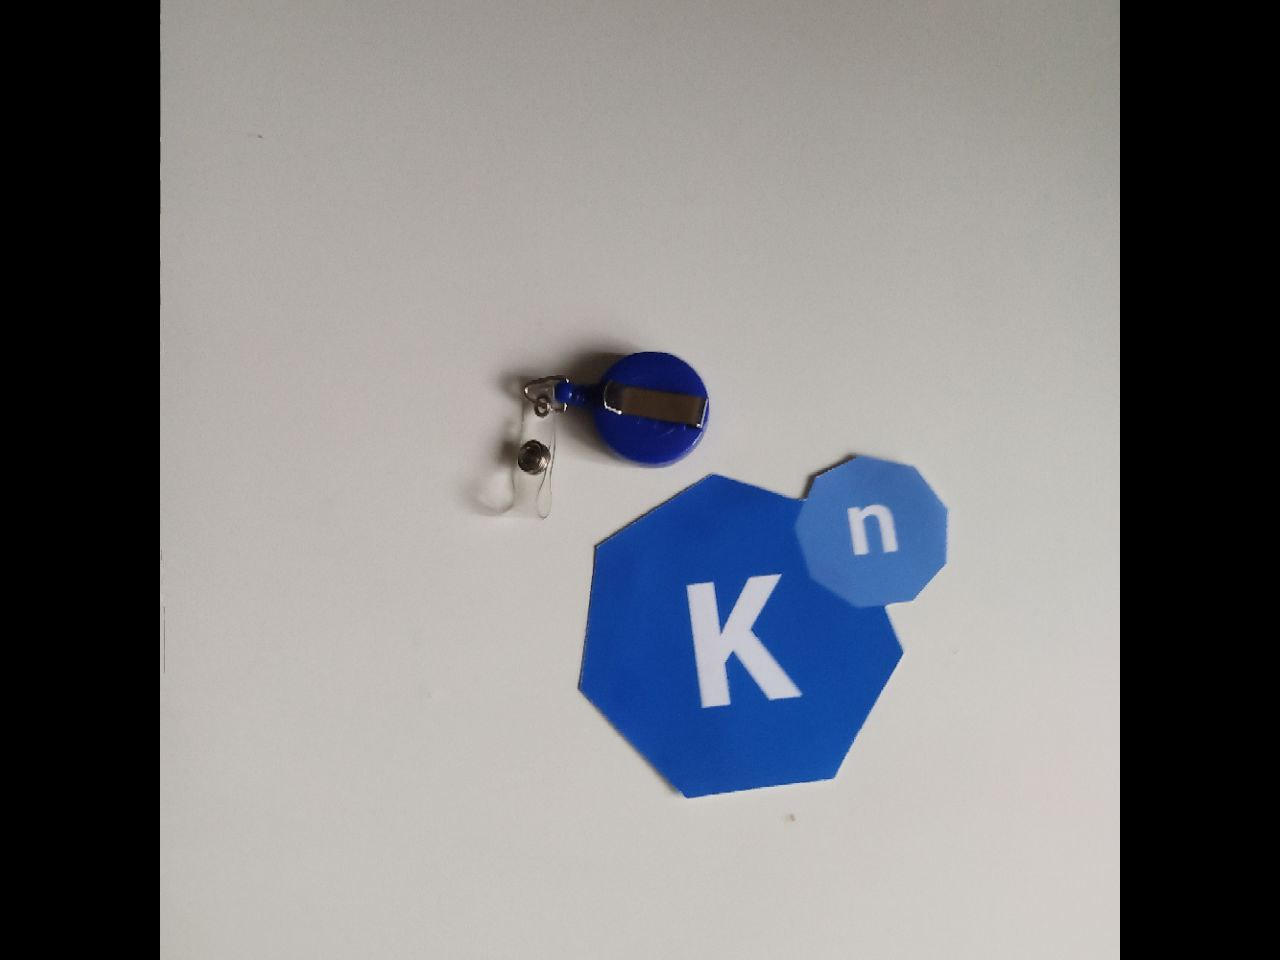knative: (577, 456, 951, 802)
